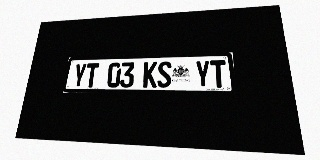0: (106, 62, 121, 88)
3: (120, 62, 135, 88)
K: (143, 62, 157, 88)
S: (157, 61, 171, 88)
T: (210, 60, 227, 88), (84, 63, 99, 88)
Y: (195, 60, 211, 88), (72, 63, 87, 88)
